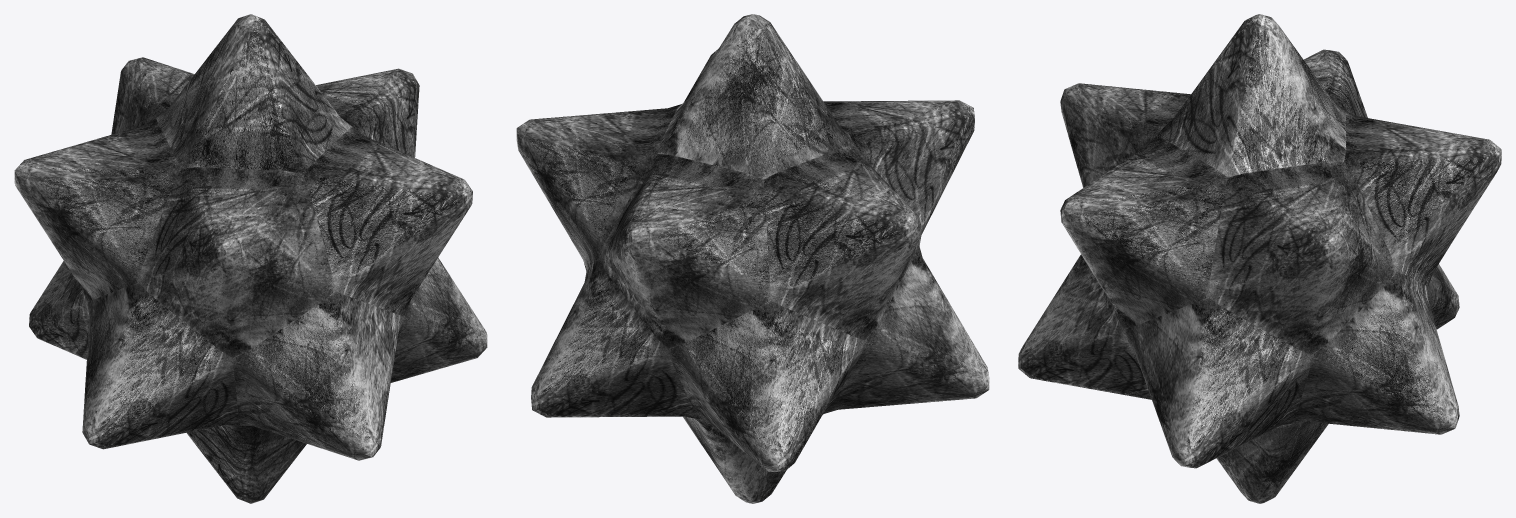
File: kiokuHikari01.fbx
3 views of the same model, side by side, from view 1: azimuth 30°, elevation 25°; view 2: azimuth 150°, elevation 25°; view 3: azimuth 270°, elevation 25° (orthographic).
Parts seen in each view (by area): view 1: kiokuHikari001_geo; view 2: kiokuHikari001_geo; view 3: kiokuHikari001_geo.
Boxes of the visible parts, x1,y1,x2,y2 form: kiokuHikari001_geo: (14,14,487,503); kiokuHikari001_geo: (516,14,989,503); kiokuHikari001_geo: (1018,14,1501,503).
Size of the model in its own units: 0.3325 by 0.3908 by 0.3496.
Materials: 1 (1 with a texture image).
